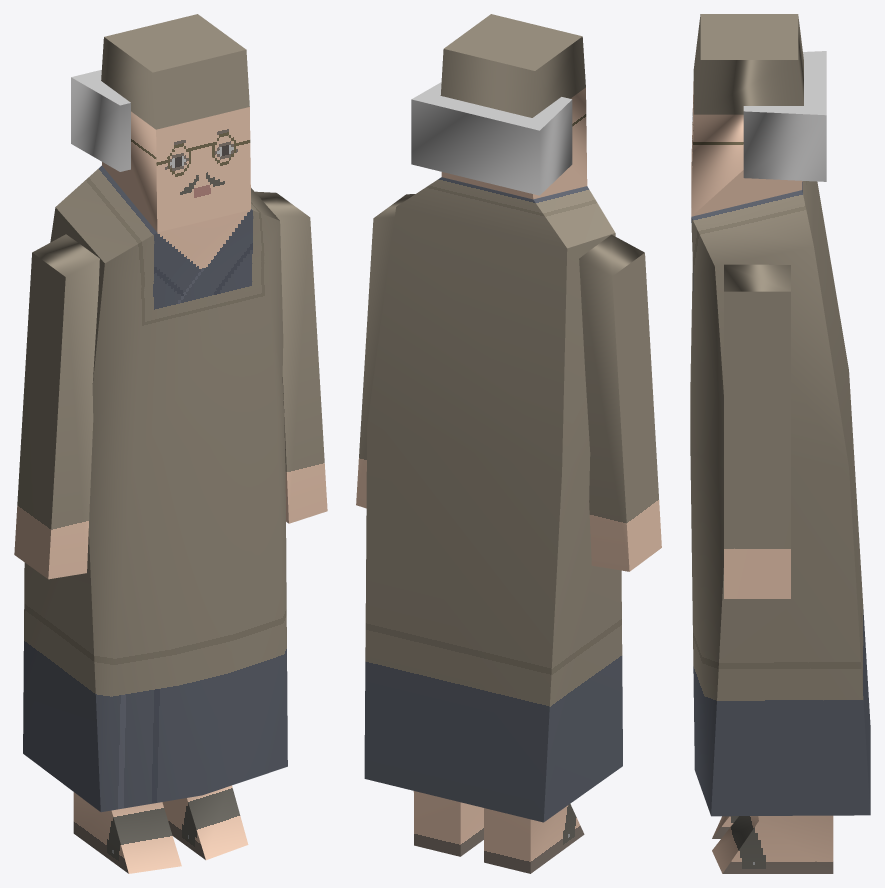
Rendered from 0252_Fortune-teller.glb.
The picture shows the model from 3 angles, left to right: view 1: azimuth 30°, elevation 25°; view 2: azimuth 150°, elevation 25°; view 3: azimuth 270°, elevation 25°; orthographic projection. The views are drawn at different scales.
Visible parts, largest first — view 1: part_0; view 2: part_0; view 3: part_0.
Boxes of the visible parts, box(x1,y1,x2,y2) form: part_0: box(14, 14, 327, 873); part_0: box(356, 14, 661, 873); part_0: box(690, 14, 870, 873).
Size of the model in its own units: 0.5762 by 1.58 by 0.3202.
1 material, 1 textured.
